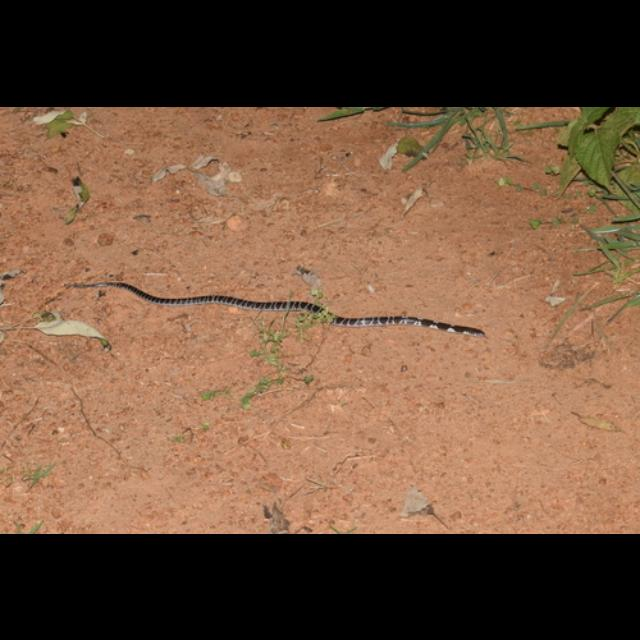snake: (66, 275, 484, 357)
